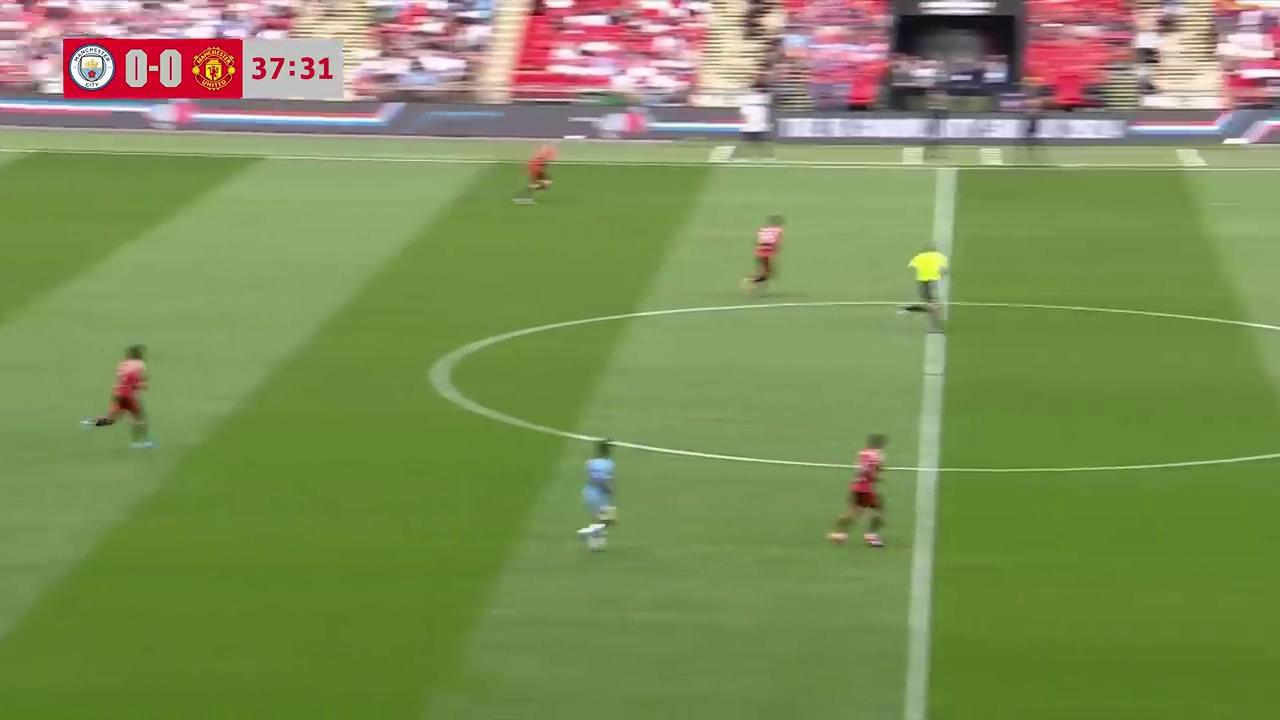player: (84, 346, 157, 451), (825, 435, 888, 547), (577, 440, 619, 550), (739, 217, 784, 292), (522, 143, 554, 194)
referee: (906, 248, 948, 323)
